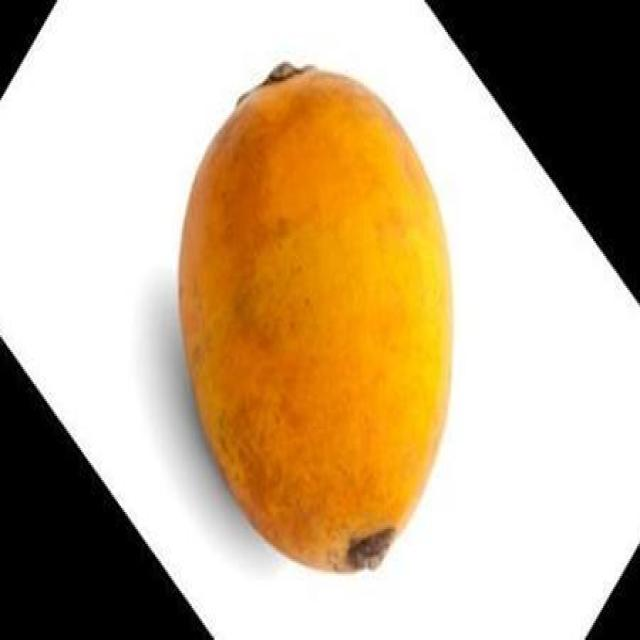good: (176, 64, 454, 574)
